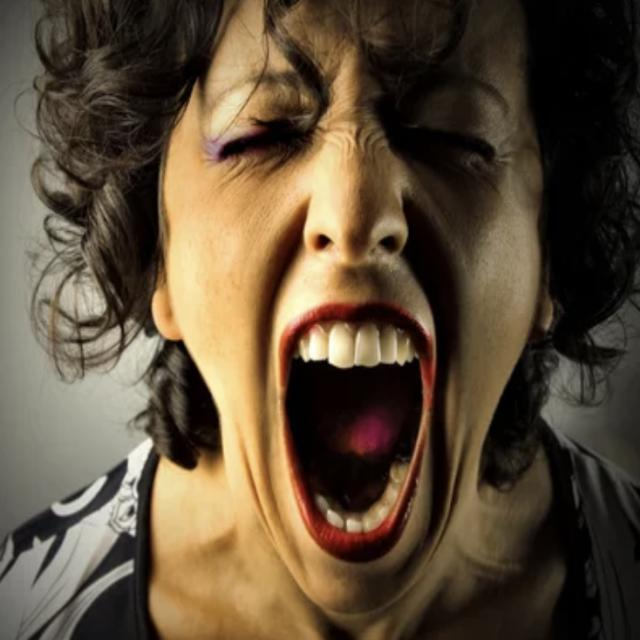angry: (138, 0, 585, 605)
